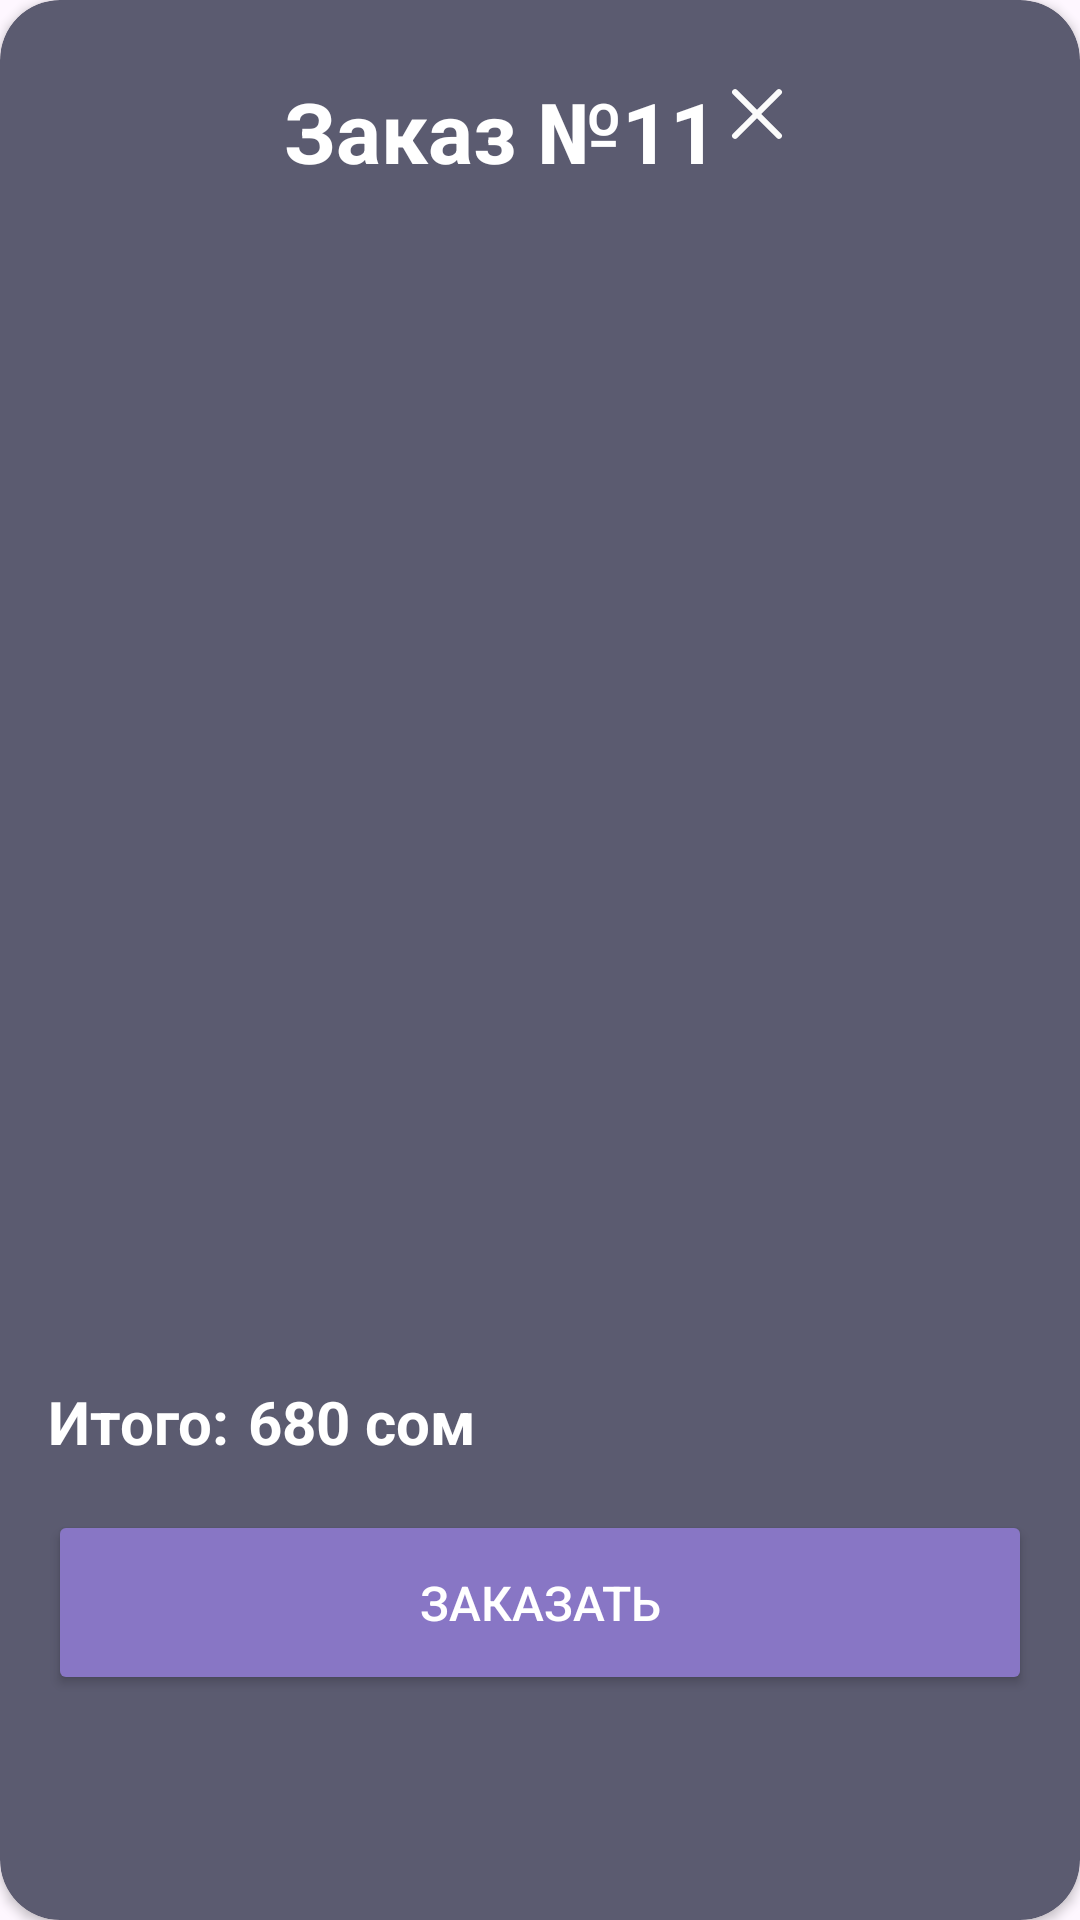

Icon bounding boxes for this 1080*1920 phone screenshot, format (x1, y1, x2, y2):
close: (732, 89, 782, 139)
